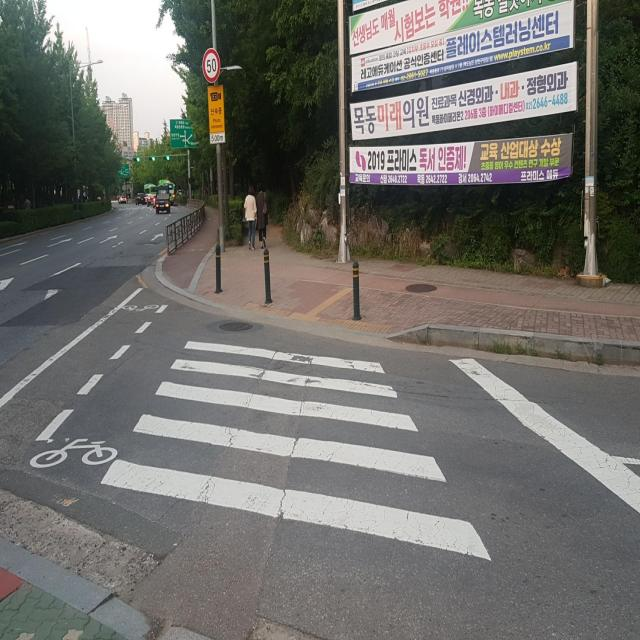횡단보도: (98, 334, 496, 566)
